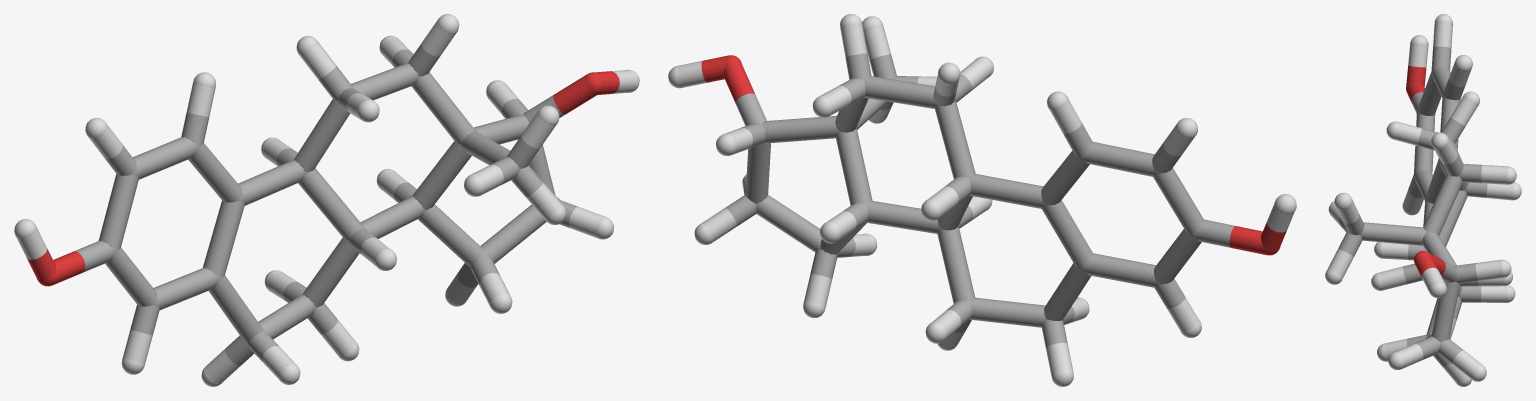
Rendered from estradiol-sticks.glb.
3 renders of one model, left to right at view 1: azimuth 30°, elevation 25°; view 2: azimuth 150°, elevation 25°; view 3: azimuth 270°, elevation 25°, orthographic. The views are drawn at different scales.
Parts seen in each view (by area): view 1: estradiol-sticks; view 2: estradiol-sticks; view 3: estradiol-sticks.
Boxes of the visible parts, bbox=[...] form: estradiol-sticks: bbox=[14, 14, 639, 386]; estradiol-sticks: bbox=[668, 14, 1296, 386]; estradiol-sticks: bbox=[1325, 14, 1521, 386].
Size of the model in its own units: 12.58 by 6.1 by 4.26.
